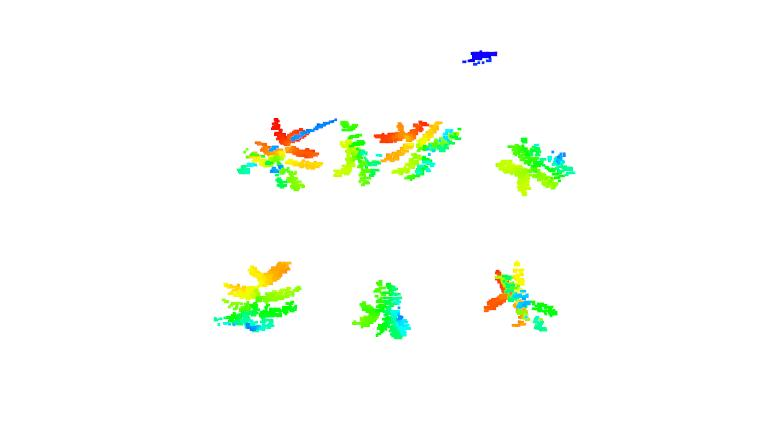chickpea: (214, 258, 305, 335), (234, 115, 323, 192), (373, 116, 465, 183), (482, 258, 559, 336), (496, 136, 577, 200), (351, 279, 414, 343), (330, 118, 384, 189)
